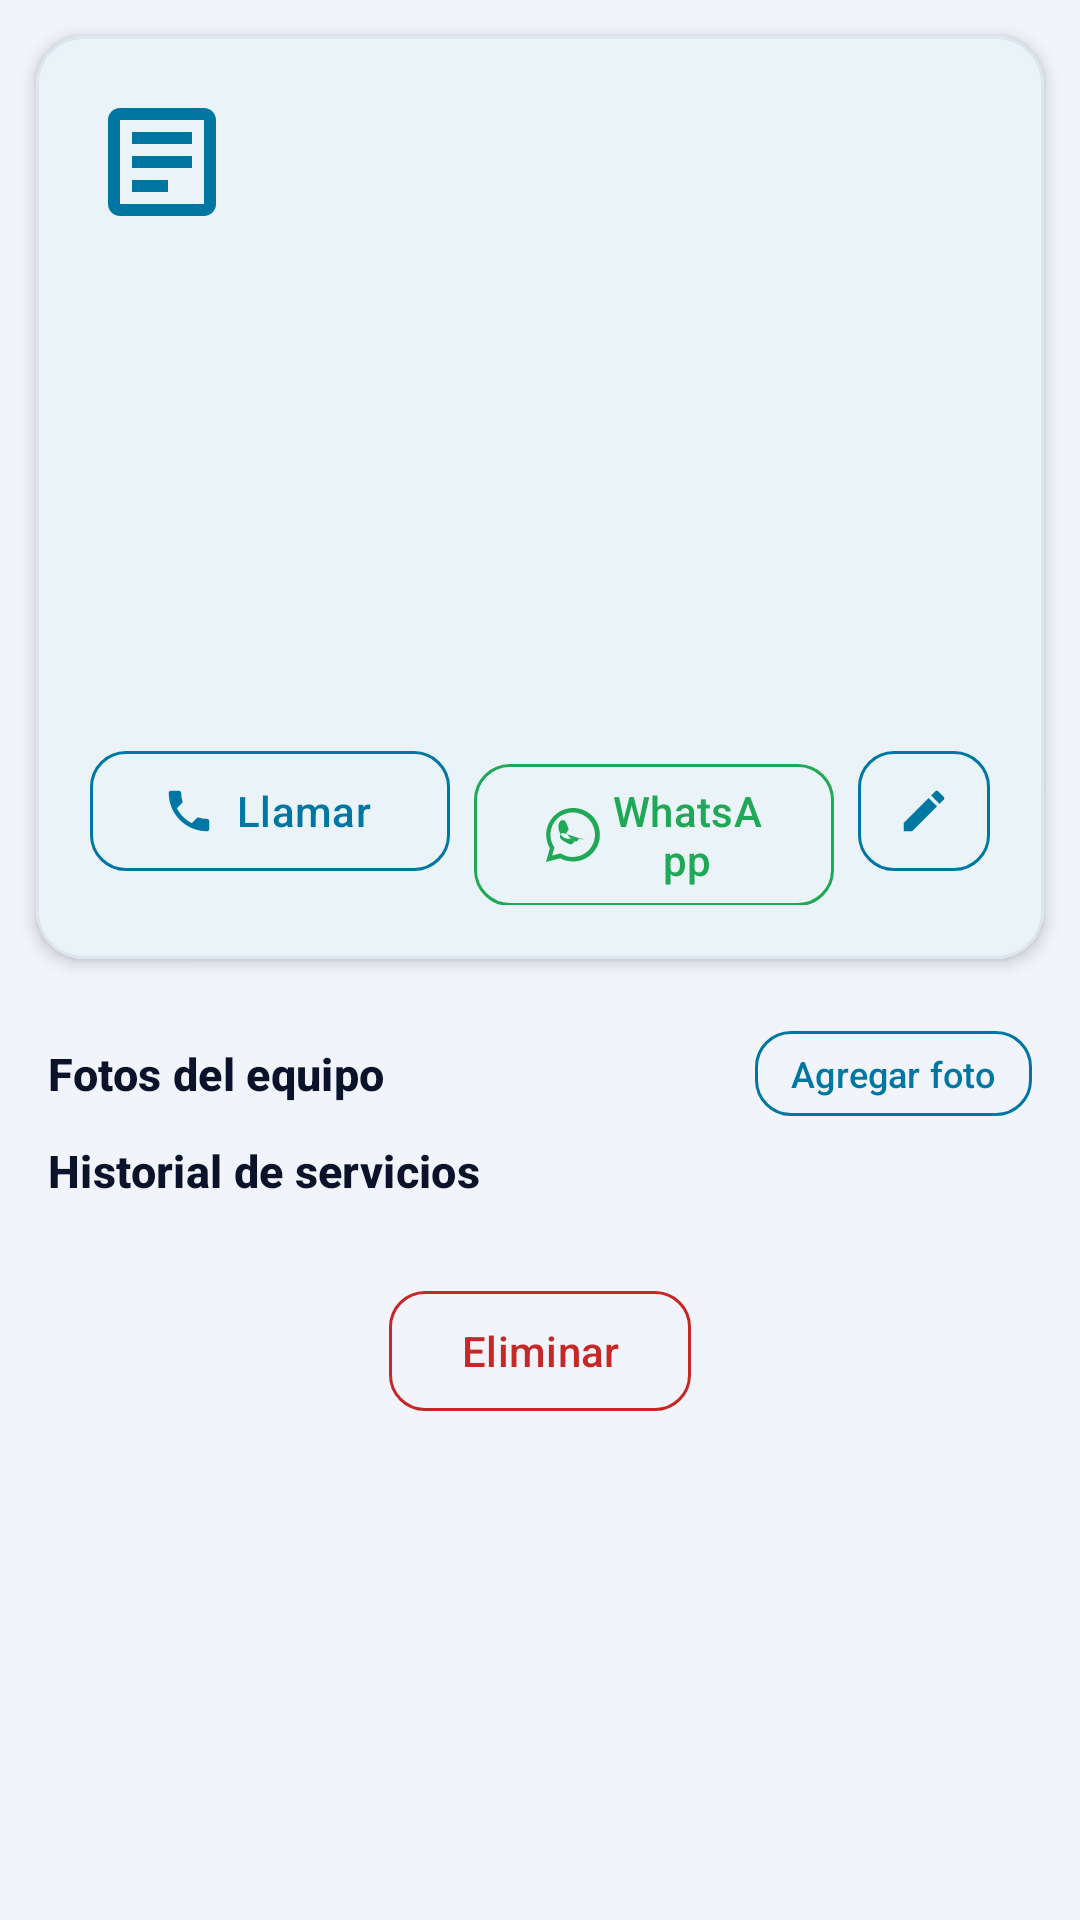

Locate icon controls on the screen. Image size 1080px×1920px, boxes as [x1, y1, x2, y2].
Editar: [858, 751, 990, 871]
